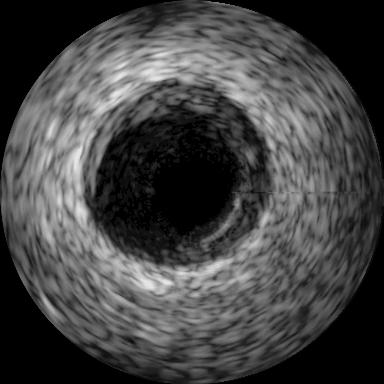Lumen: (153, 147, 233, 234)
